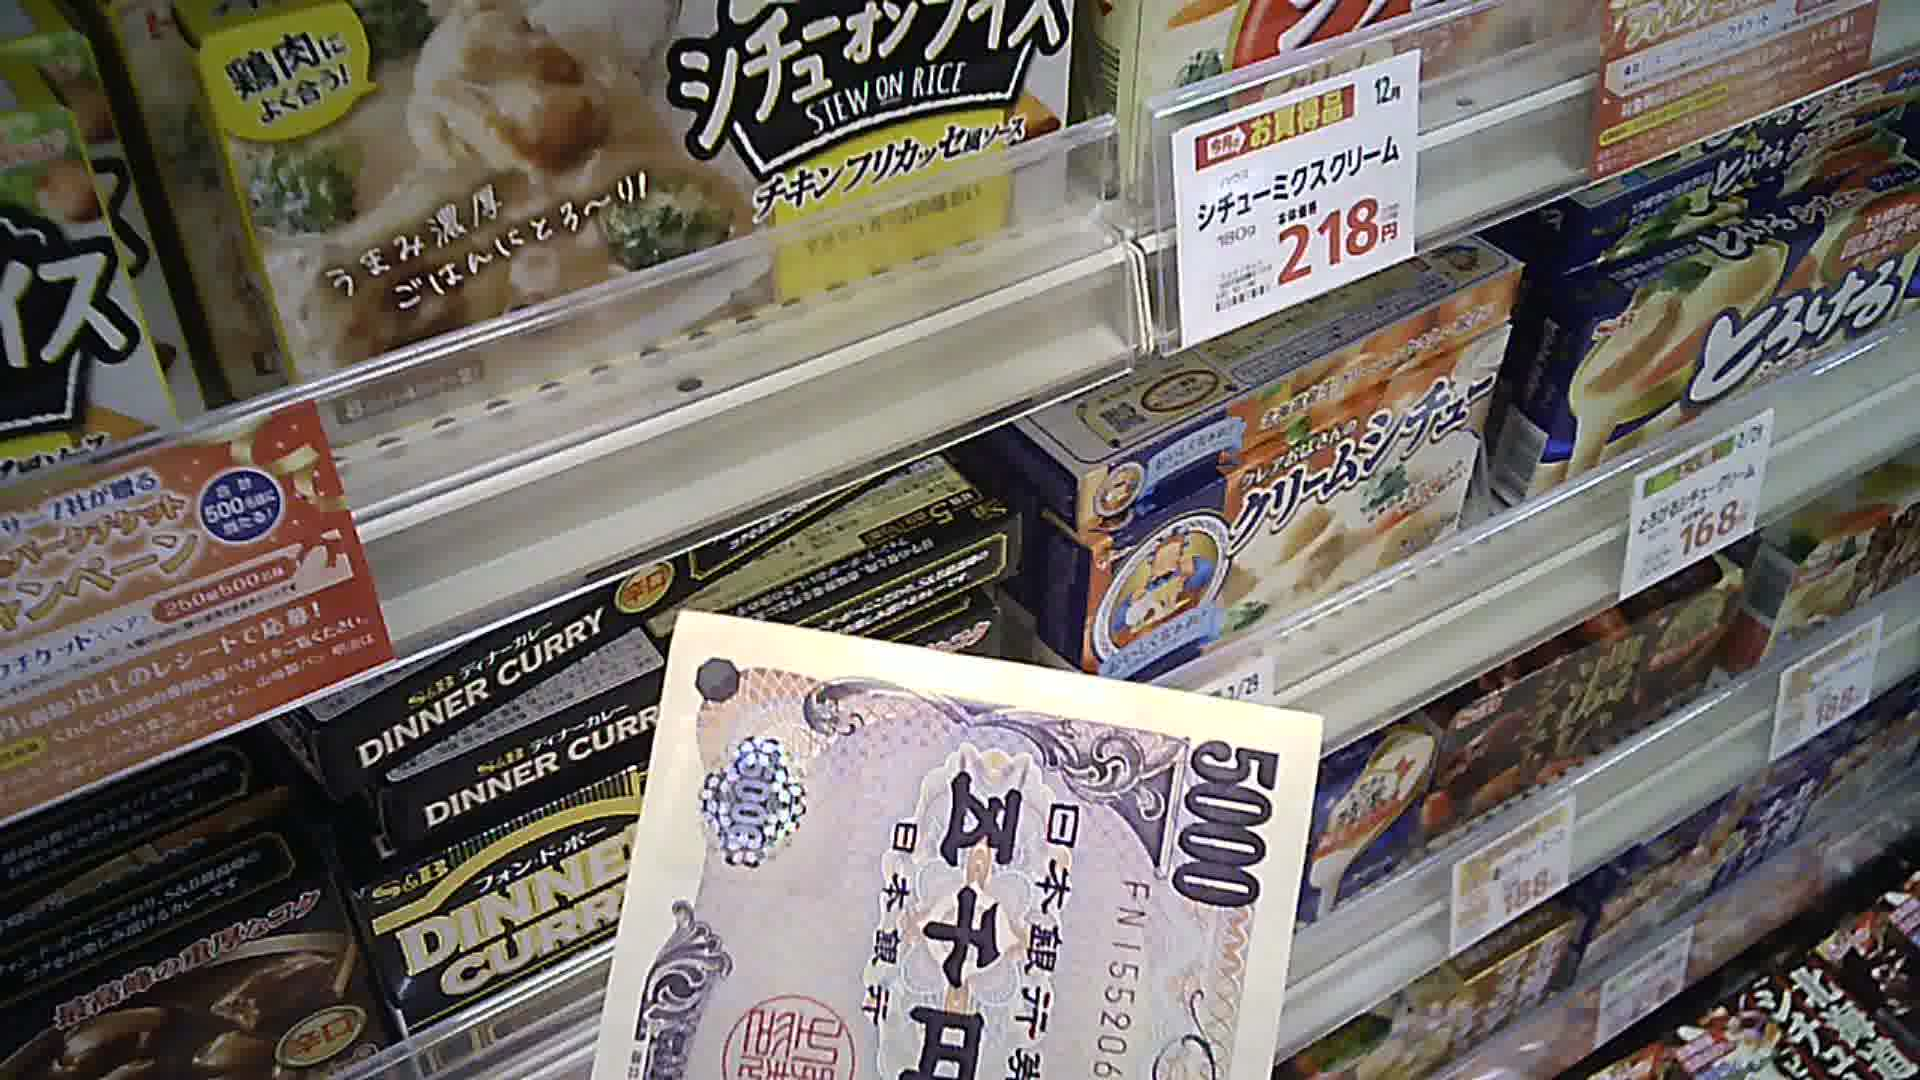5,000 Yen: (587, 593, 1356, 1064)
